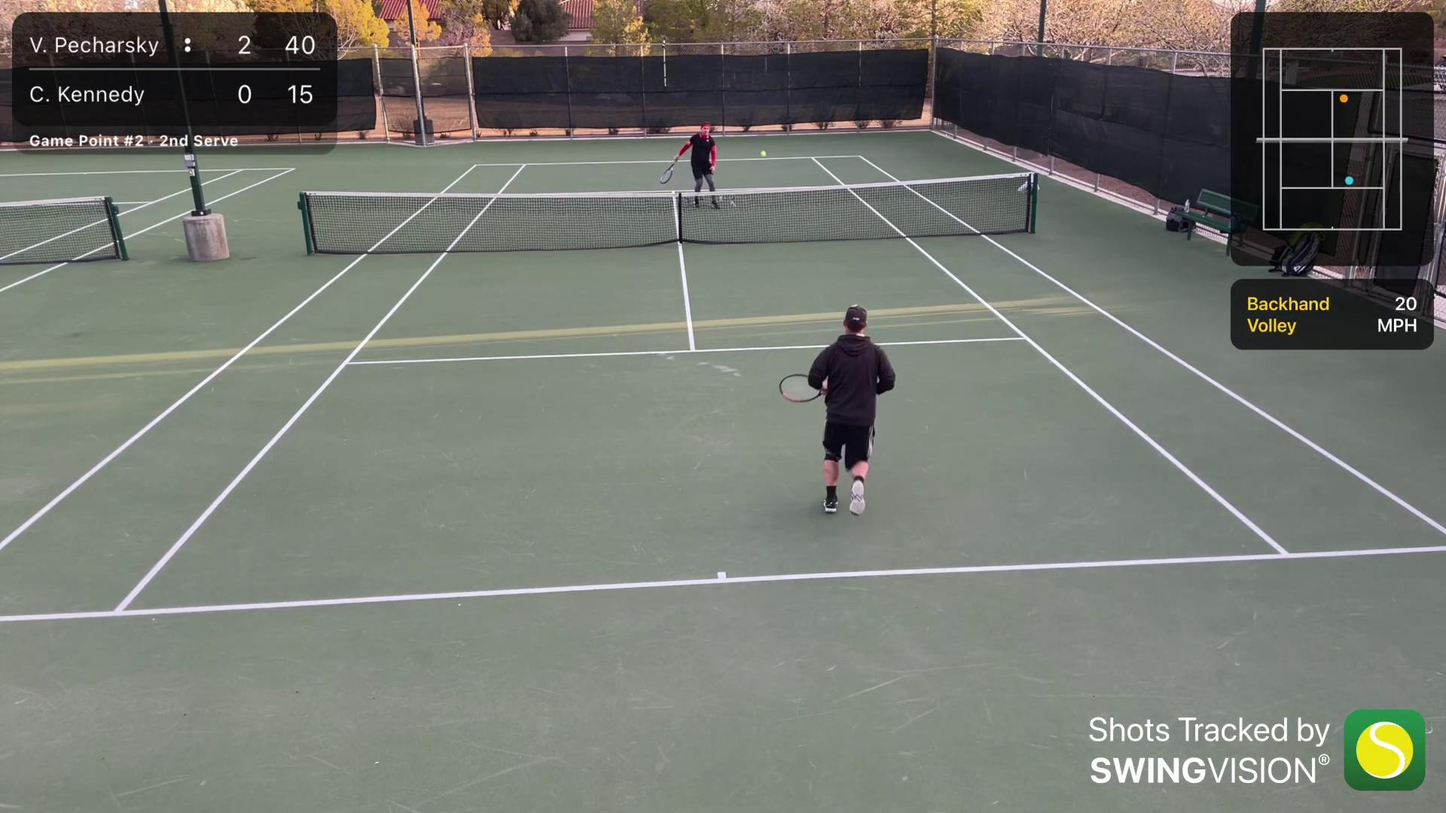ball: (760, 151, 768, 158)
